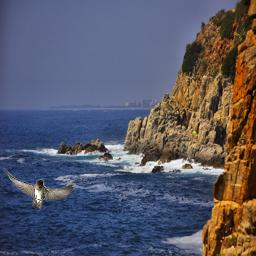Swallow: (3, 168, 75, 211)
